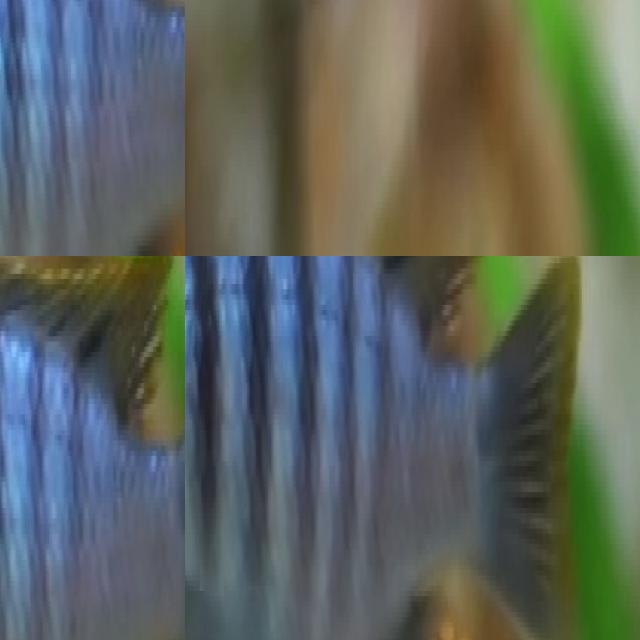fish: (0, 256, 185, 640), (0, 0, 185, 256)
